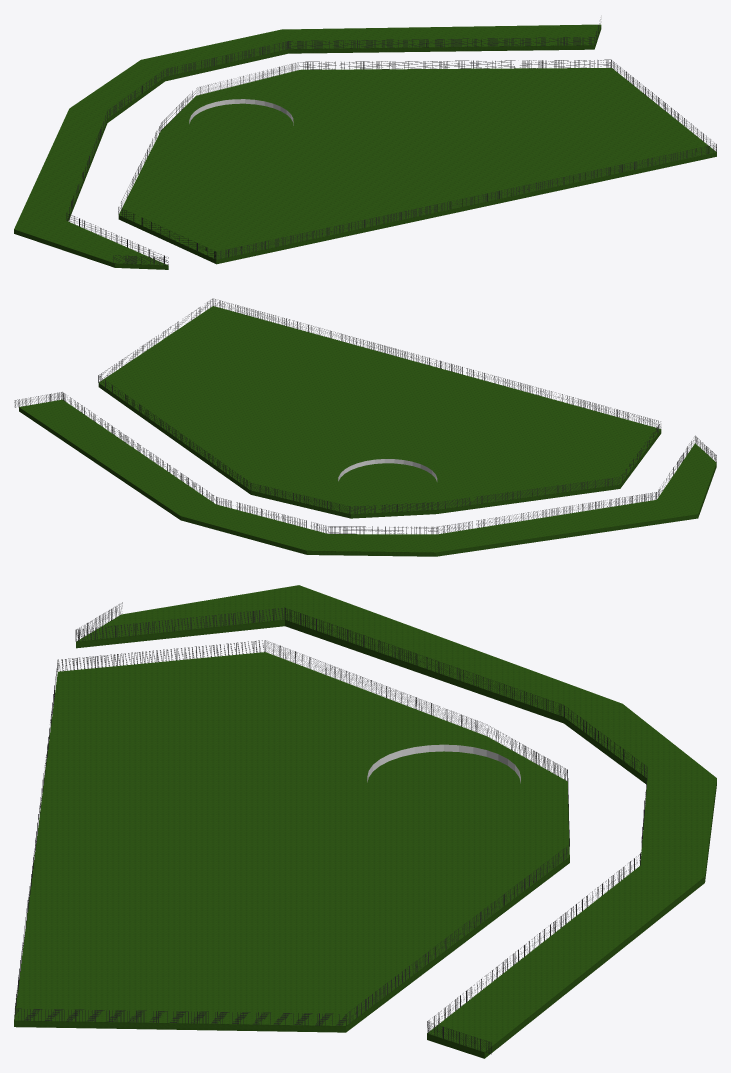
Rendered from Golf Course.glb.
The picture shows the model from 3 angles, top to bottom: view 1: azimuth 30°, elevation 25°; view 2: azimuth 150°, elevation 25°; view 3: azimuth 270°, elevation 25°; orthographic projection. The views are drawn at different scales.
Parts seen in each view (by area): view 1: Ground, Fence, Water Tower Outline; view 2: Ground, Fence, Water Tower Outline; view 3: Ground, Fence, Water Tower Outline.
Part boxes in pixels (bbox=[...]): Ground: bbox=[14, 24, 716, 269]; Fence: bbox=[66, 19, 716, 265]; Water Tower Outline: bbox=[189, 99, 293, 125]; Ground: bbox=[19, 306, 716, 556]; Fence: bbox=[14, 298, 716, 534]; Water Tower Outline: bbox=[338, 459, 437, 481]; Ground: bbox=[14, 585, 716, 1058]; Fence: bbox=[14, 602, 647, 1054]; Water Tower Outline: bbox=[367, 744, 520, 783].
Size of the model in its own units: 200 by 4.55 by 126.
Materials: 2 (1 with a texture image).
